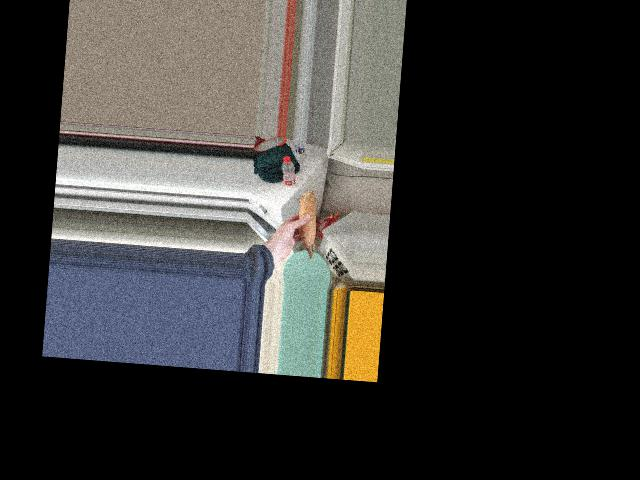sweet_potato: (291, 186, 323, 258)
